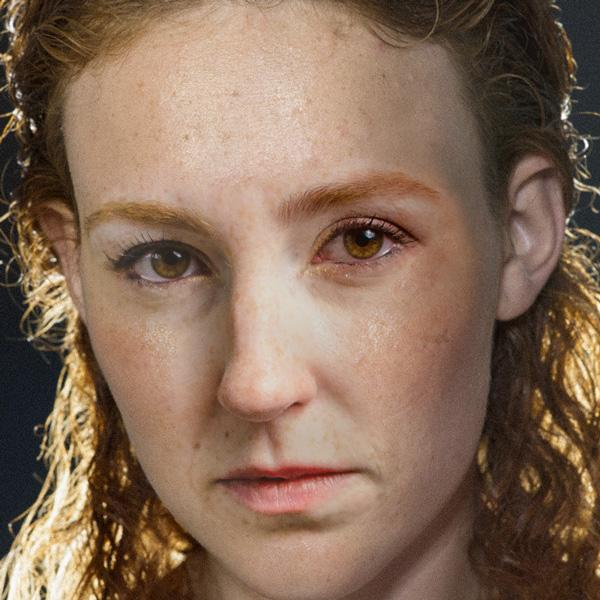Eyes: (294, 209, 419, 289), (97, 226, 223, 303)
